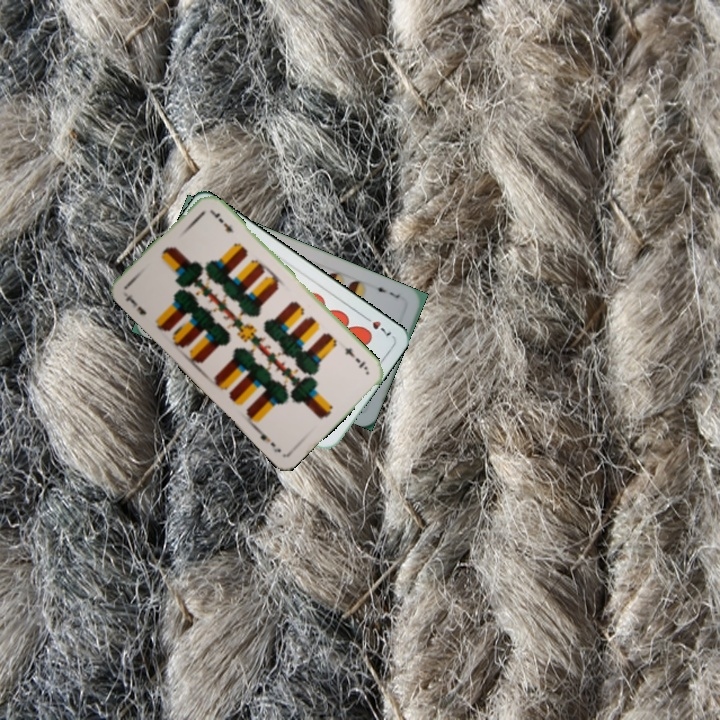E7: (340, 343, 370, 373), (121, 291, 149, 317), (370, 281, 402, 301)
H7: (359, 311, 394, 340)
